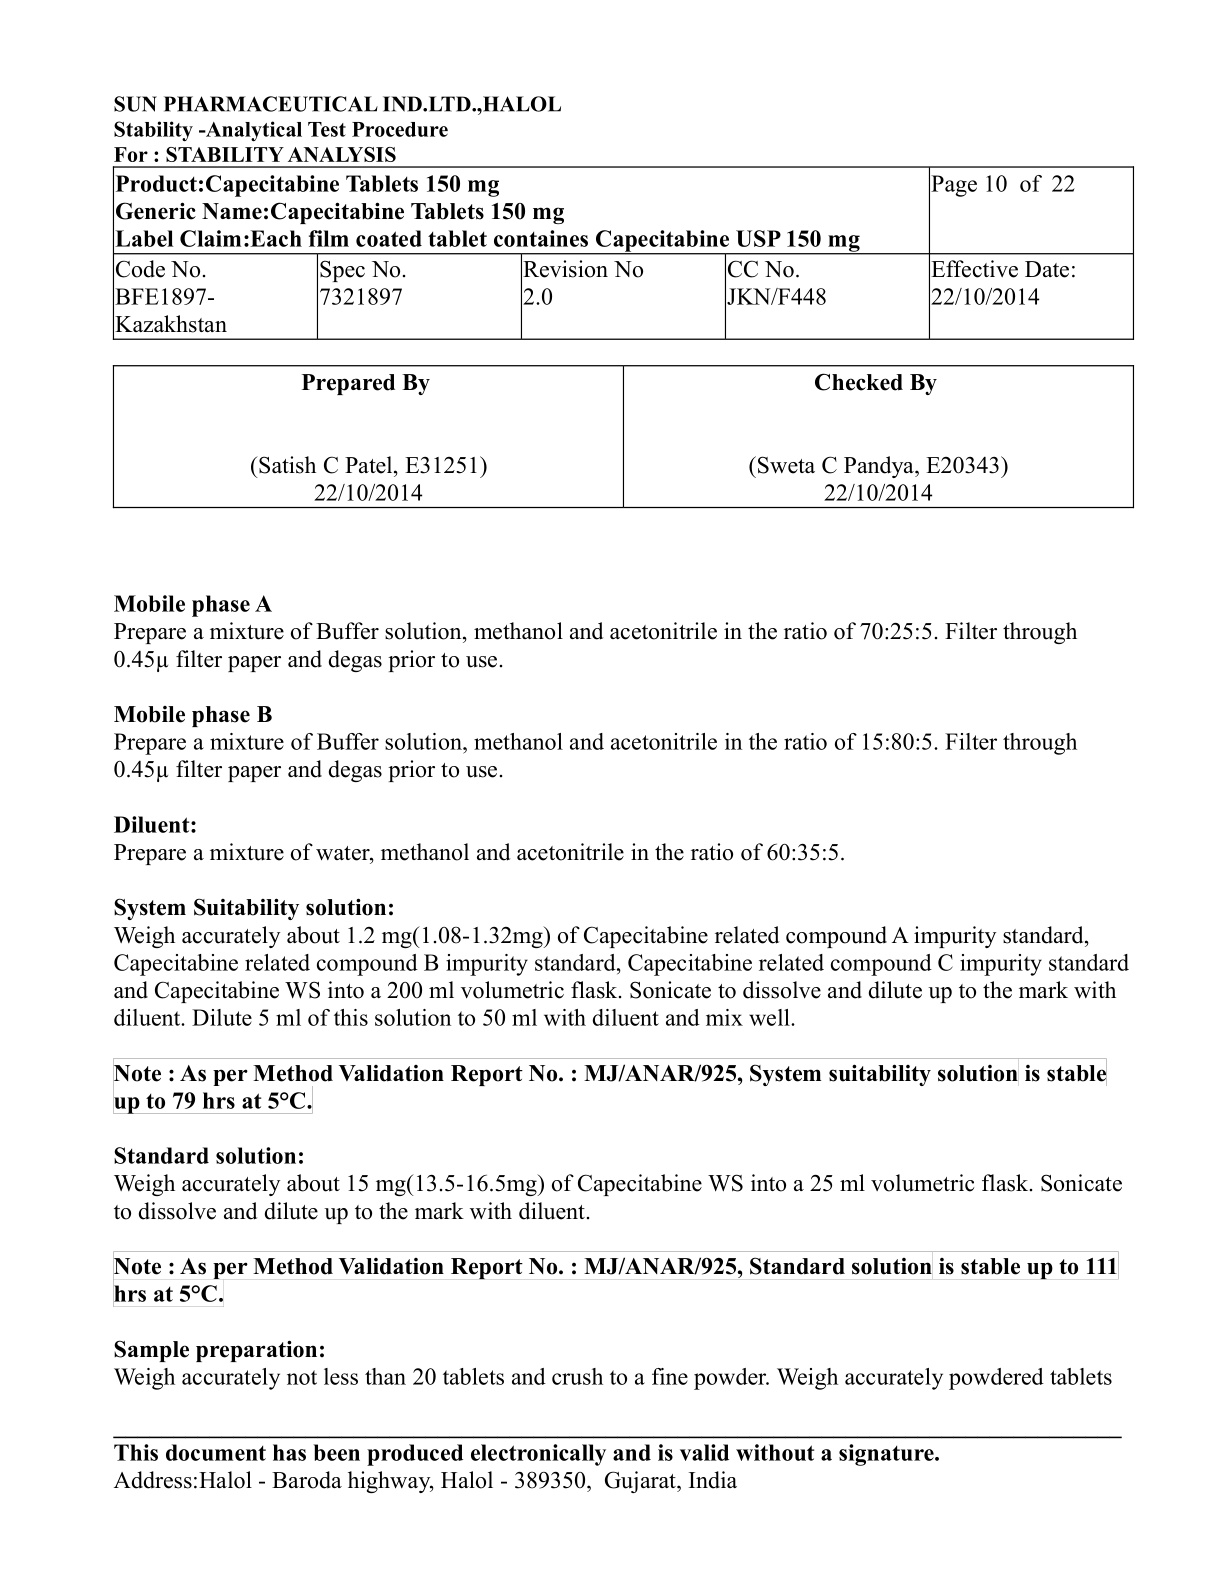merged_cells: (112, 165, 1135, 341)
partial_lined: (112, 363, 1135, 509)
